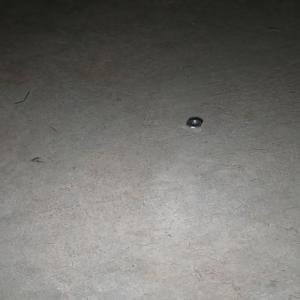Nut: (186, 118, 202, 128)
